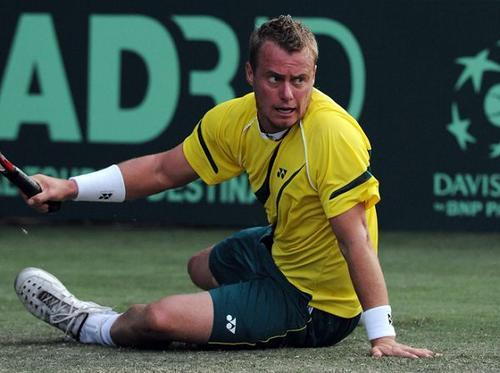bending: (21, 17, 391, 349)
